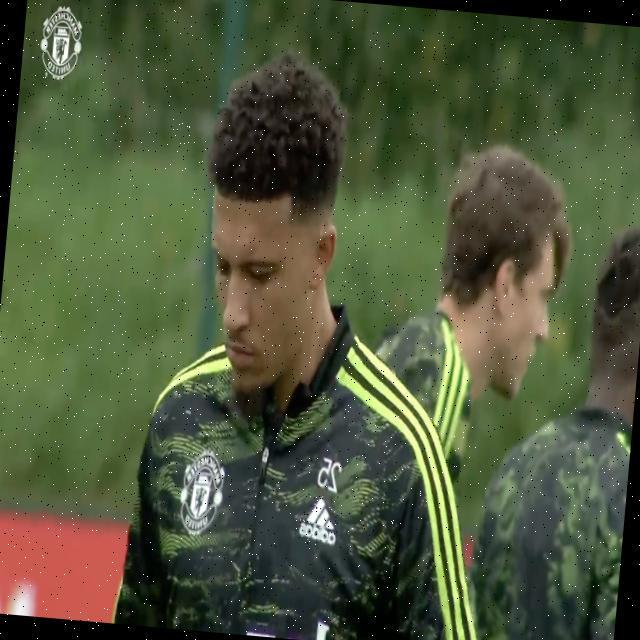Adidas: (298, 493, 340, 546)
